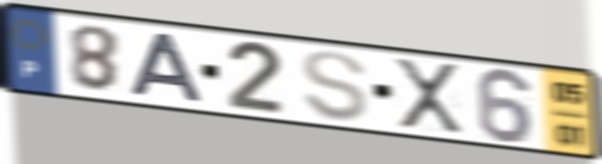2: (226, 39, 289, 119)
6: (475, 66, 535, 146)
8: (65, 23, 123, 94)
A: (127, 30, 208, 106)
S: (299, 48, 371, 124)
X: (390, 55, 467, 136)
